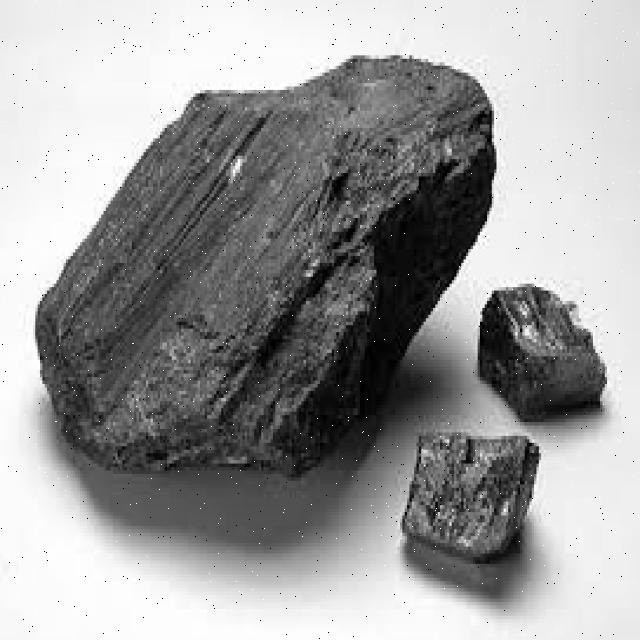Sedimentary: (35, 56, 612, 582)
